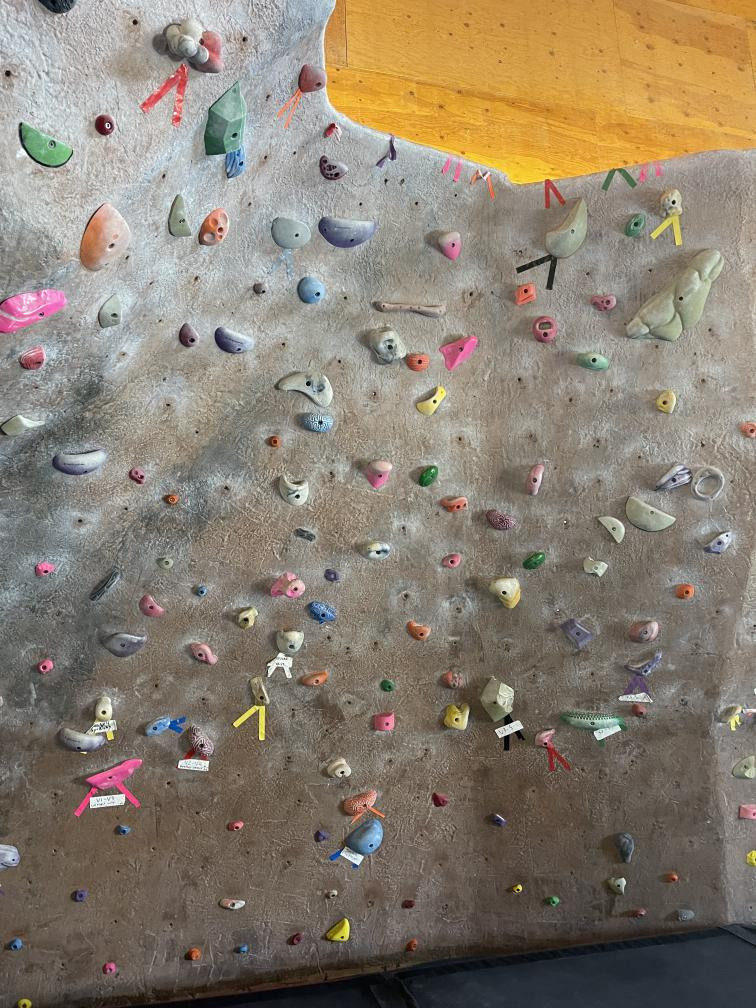Crimp: (204, 77, 247, 156), (543, 192, 590, 261), (14, 120, 75, 169), (624, 492, 680, 534), (650, 458, 694, 496), (622, 647, 665, 683), (311, 150, 353, 184), (166, 191, 193, 242), (594, 514, 626, 552), (2, 415, 46, 441), (96, 292, 124, 331), (702, 527, 736, 556), (175, 318, 202, 354), (18, 344, 48, 374), (138, 591, 167, 620), (142, 714, 171, 740), (582, 555, 609, 577), (251, 280, 271, 299)
Edges: (622, 243, 732, 345), (477, 674, 517, 725), (369, 298, 449, 320)
Foothold: (325, 914, 356, 948), (91, 106, 119, 140), (614, 830, 640, 865), (214, 894, 253, 914), (426, 790, 455, 811), (90, 958, 120, 978), (674, 581, 698, 606), (605, 876, 630, 898), (125, 466, 149, 488), (33, 560, 58, 580), (180, 946, 208, 963), (440, 551, 465, 570), (70, 885, 91, 906), (674, 907, 698, 925), (228, 942, 254, 958), (486, 813, 511, 828), (108, 824, 134, 838), (157, 554, 177, 572), (286, 930, 306, 948), (396, 896, 417, 913), (379, 677, 400, 694), (225, 819, 247, 835), (324, 566, 342, 585), (38, 658, 59, 673), (312, 830, 332, 845), (193, 583, 211, 599), (4, 936, 22, 952), (630, 906, 648, 922), (163, 494, 180, 508), (264, 435, 281, 449), (662, 872, 680, 884), (545, 895, 560, 909), (510, 884, 527, 896), (407, 938, 420, 952), (323, 889, 338, 901)
Jug: (77, 195, 134, 279), (157, 13, 226, 76), (0, 284, 75, 335), (81, 756, 145, 795), (316, 214, 379, 251), (276, 369, 335, 406), (53, 447, 114, 479), (264, 214, 314, 252), (652, 184, 694, 229), (366, 324, 406, 367), (52, 725, 109, 754), (98, 630, 148, 662), (440, 334, 482, 372), (276, 470, 313, 512), (214, 324, 259, 357), (486, 572, 525, 610), (436, 229, 475, 263), (297, 58, 327, 102), (269, 571, 308, 602), (362, 455, 394, 491), (189, 638, 222, 672), (443, 698, 475, 733), (358, 539, 396, 566), (273, 626, 307, 655), (249, 675, 274, 712), (231, 602, 261, 630), (439, 492, 470, 516), (414, 463, 439, 491), (532, 727, 560, 752), (518, 547, 548, 570), (720, 703, 744, 728), (408, 351, 432, 372)
Pinch: (556, 709, 629, 732), (197, 204, 232, 251), (412, 385, 452, 418), (518, 457, 548, 501), (320, 756, 358, 785), (574, 348, 614, 374), (508, 279, 542, 308), (92, 691, 115, 728), (405, 618, 436, 645), (652, 388, 677, 418), (623, 210, 647, 240), (298, 671, 332, 691), (588, 293, 619, 314), (372, 712, 396, 734)
Pocket: (690, 465, 728, 506), (531, 315, 561, 344)
Sloper: (344, 817, 387, 857), (187, 718, 217, 760), (295, 272, 328, 307), (481, 507, 520, 534), (298, 410, 338, 436), (342, 790, 379, 816), (625, 619, 662, 645), (305, 600, 341, 626), (437, 669, 467, 692)
